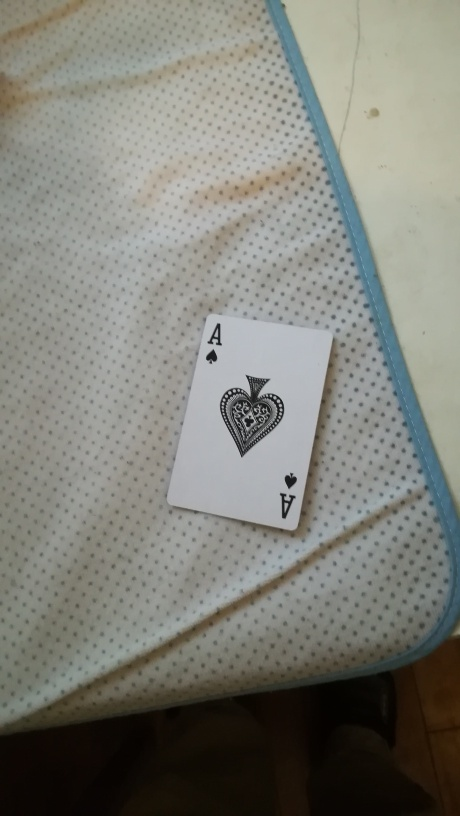ht a: (167, 307, 335, 532)
